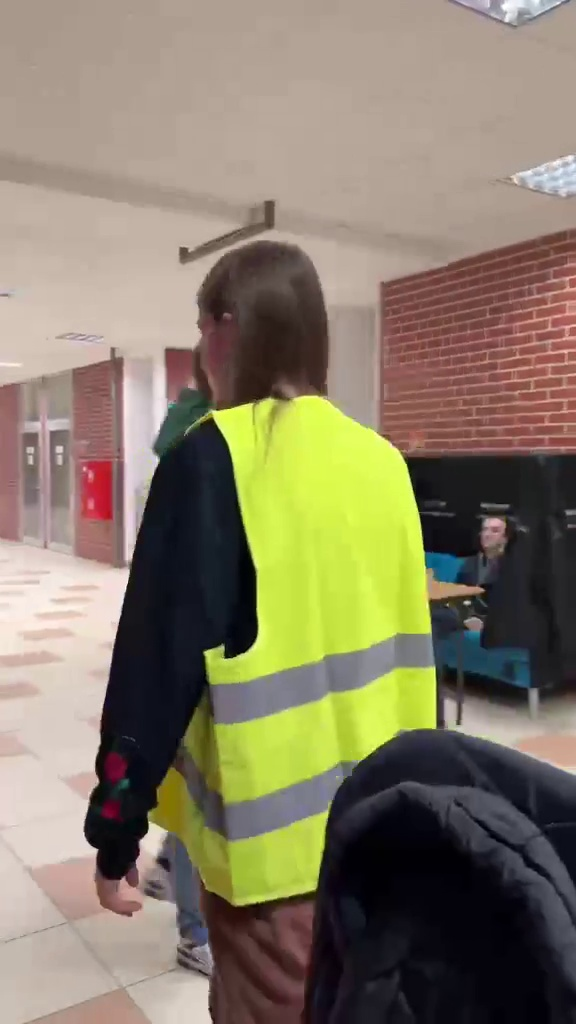vest: (110, 238, 442, 1000)
